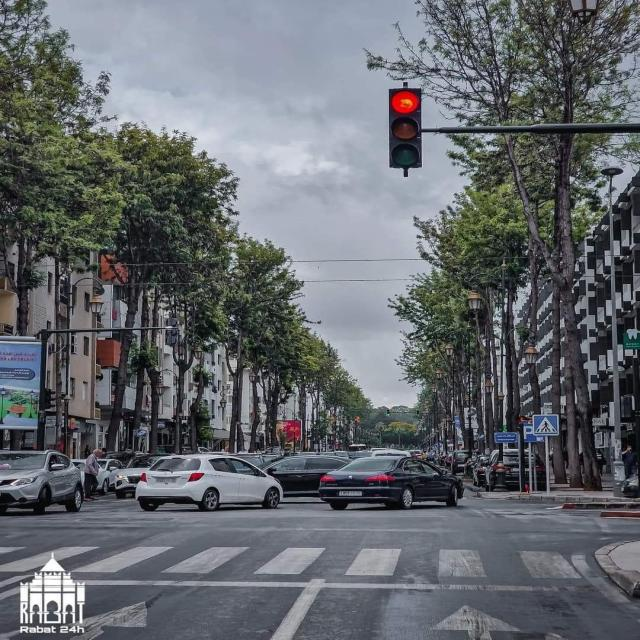Car: (135, 455, 284, 512), (318, 457, 463, 510), (0, 452, 83, 514)
Electric pole: (470, 259, 508, 431), (498, 445, 505, 481)
Tree: (494, 133, 613, 490), (368, 0, 639, 124), (172, 335, 194, 454), (188, 351, 204, 453)
